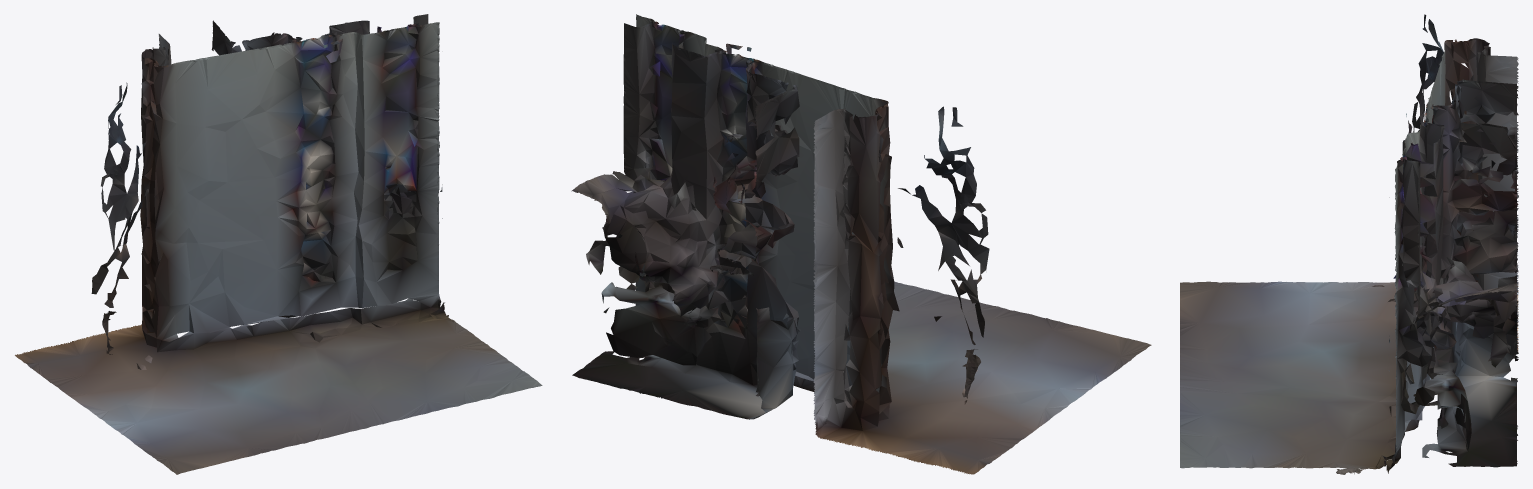
File: coarse.glb
3 views of the same model, side by side, from view 1: azimuth 30°, elevation 25°; view 2: azimuth 150°, elevation 25°; view 3: azimuth 270°, elevation 25° (orthographic). The views are drawn at different scales.
Size of the model in its own units: 2.01 by 1.57 by 1.55.
